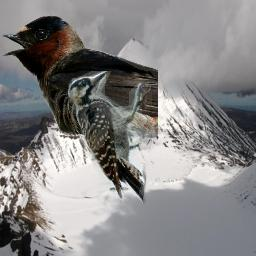Swallow: (0, 15, 158, 139)
Woodpecker: (67, 71, 152, 205)
